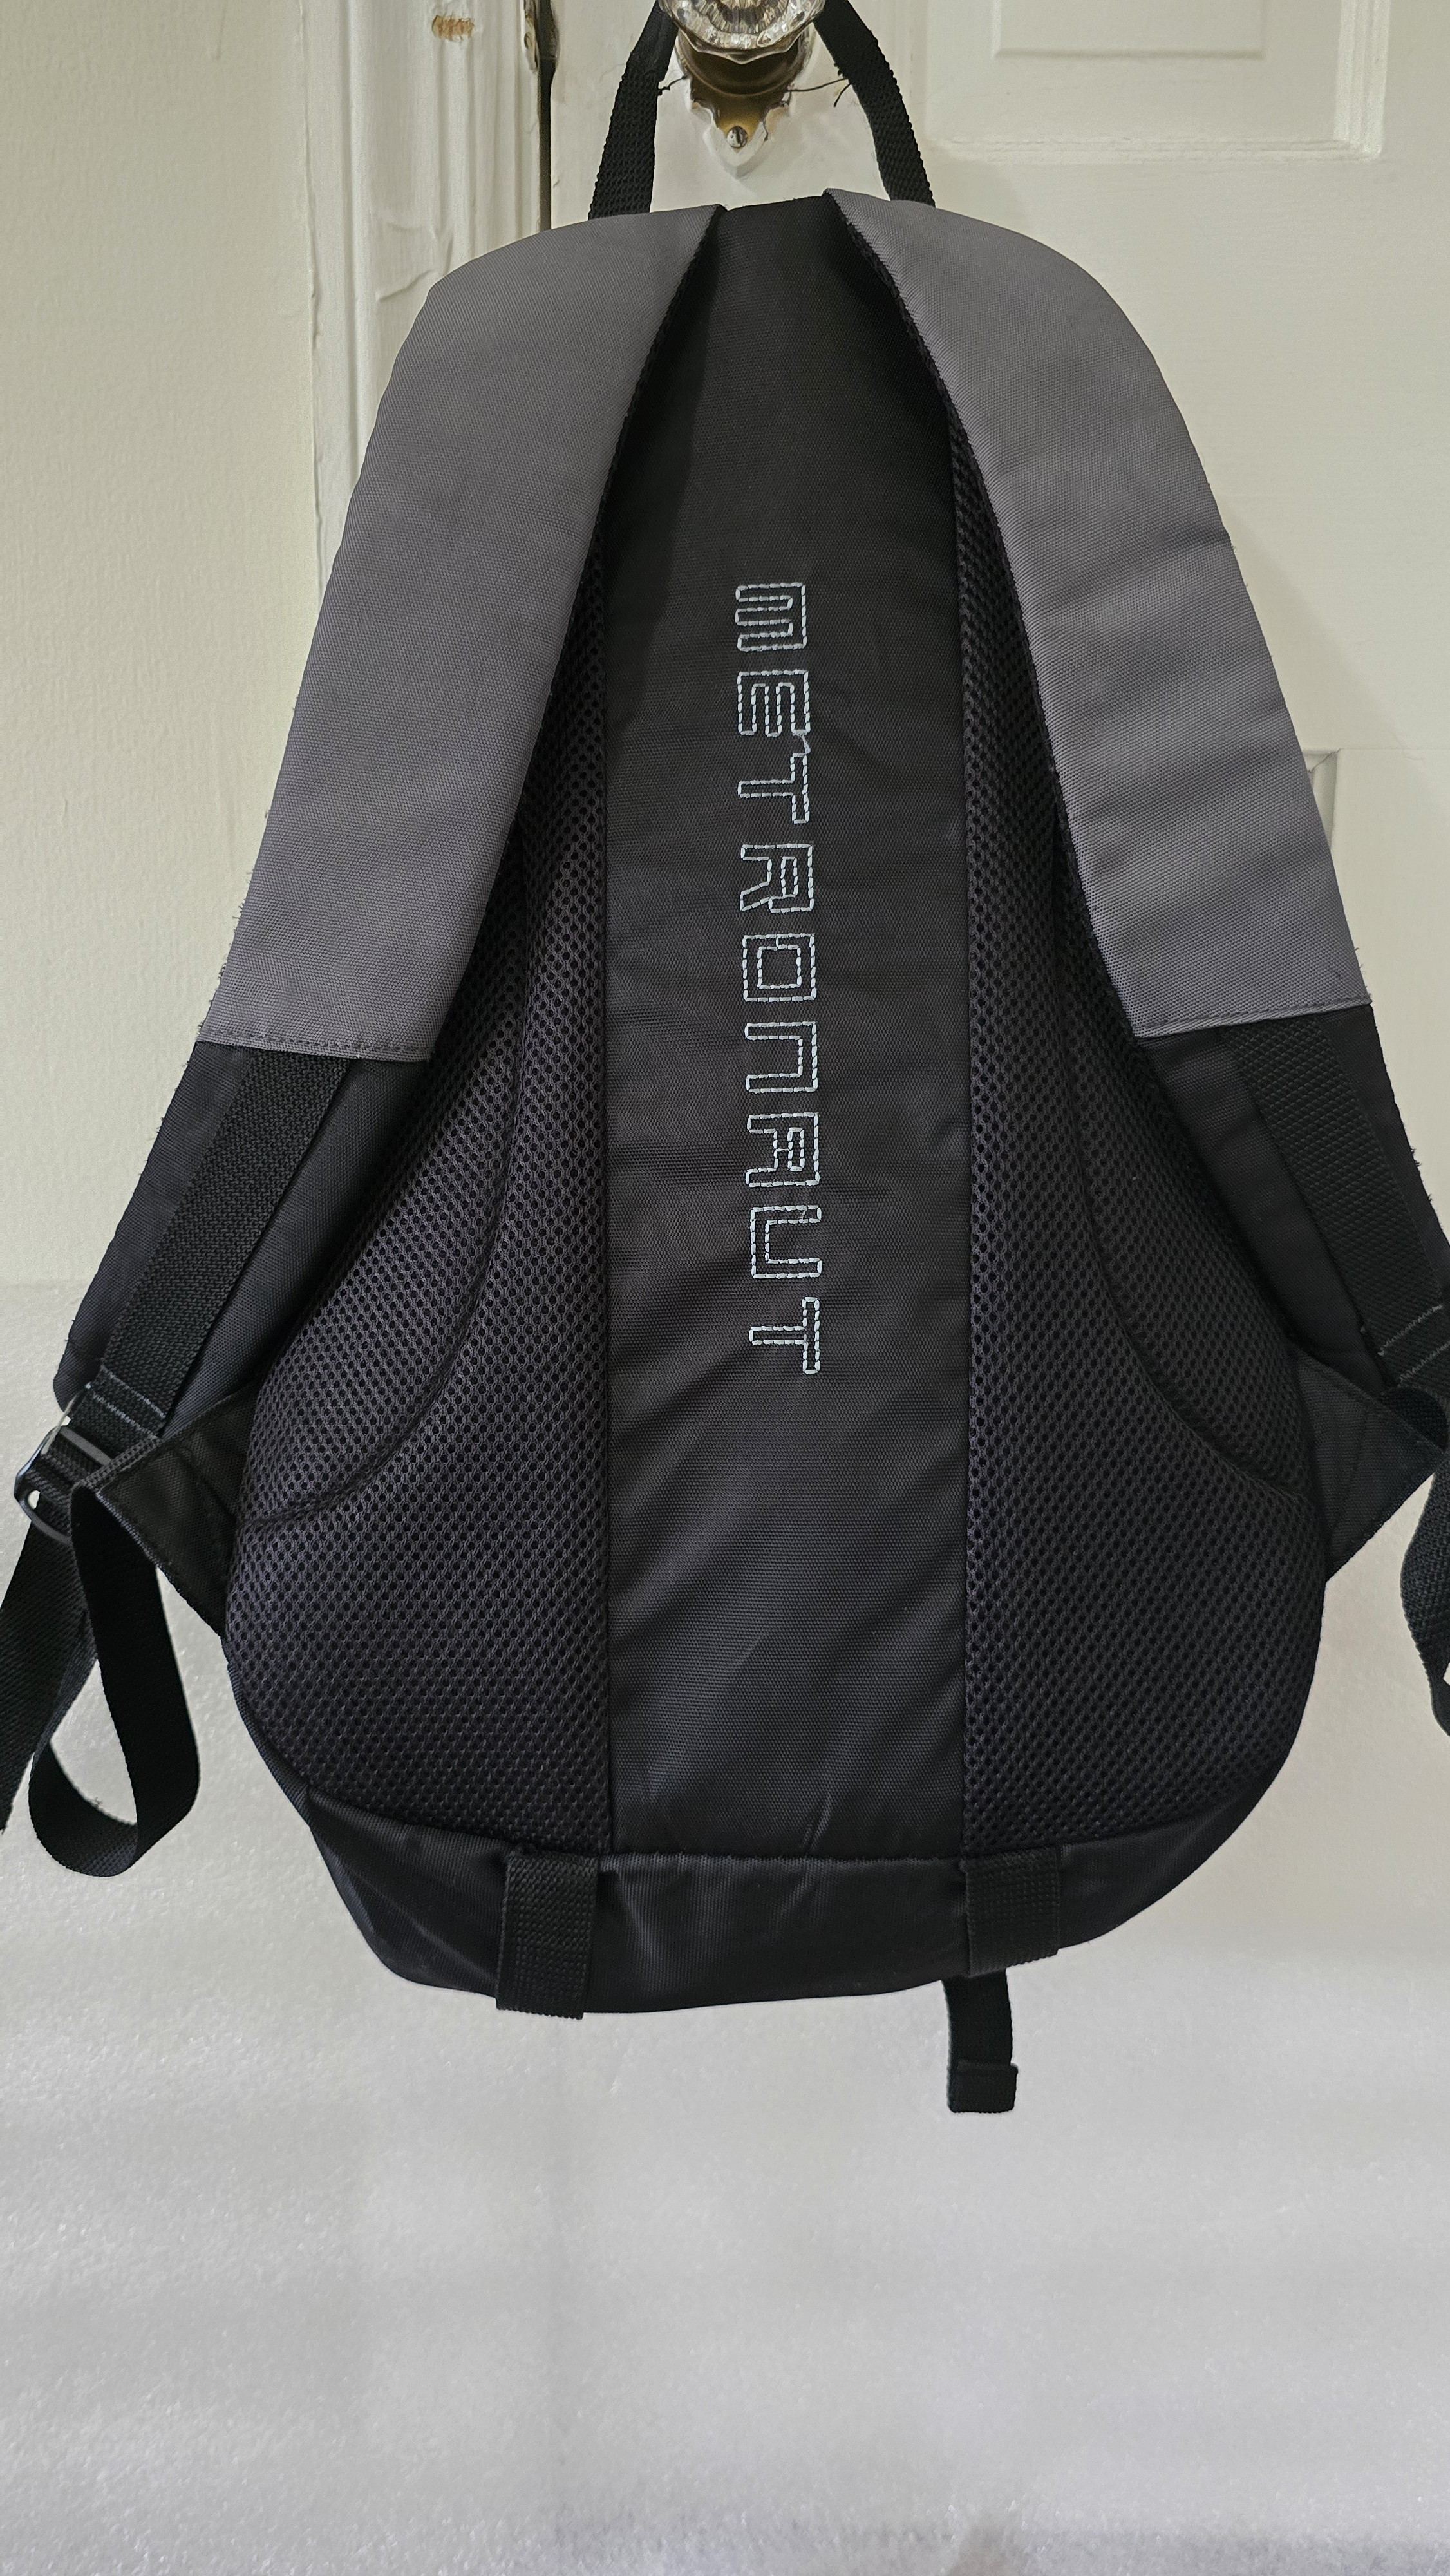bag: (95, 57, 1450, 1994)
